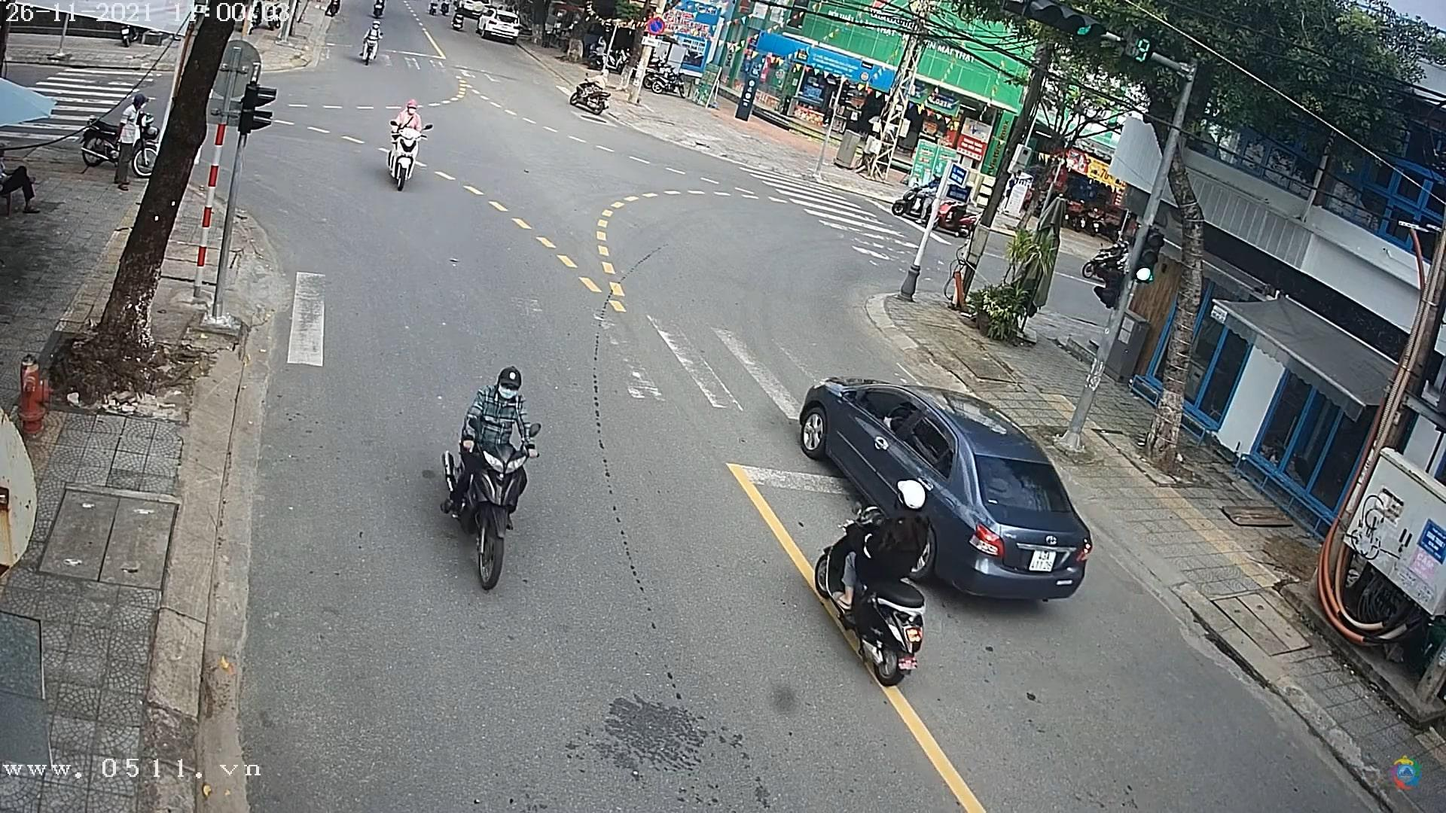car: (798, 380, 1103, 604)
motorbike: (822, 495, 935, 686), (435, 424, 536, 595), (386, 119, 429, 190), (569, 78, 611, 115), (362, 32, 381, 66)
